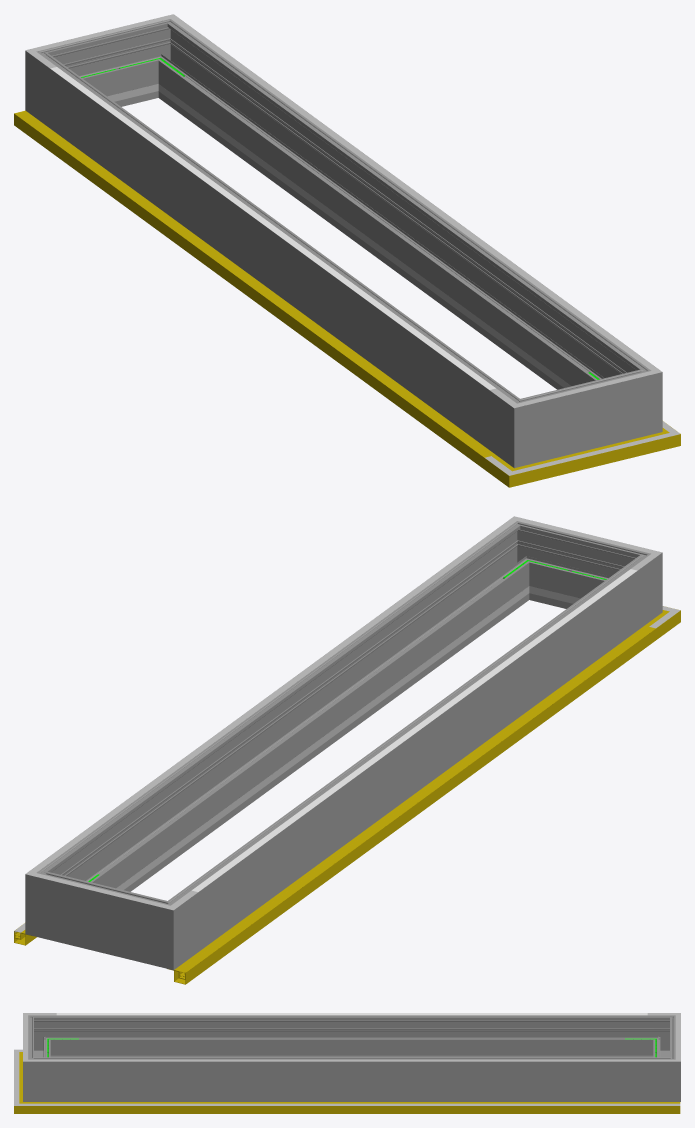
3 renders of one model, top to bottom at view 1: azimuth 30°, elevation 25°; view 2: azimuth 150°, elevation 25°; view 3: azimuth 270°, elevation 25°, orthographic. The views are drawn at different scales.
Parts seen in each view (by area): view 1: 3DGeom-297, 3DGeom-268, 3DGeom-6, 3DGeom-270, 3DGeom-298, 3DGeom-276, 3DGeom-25, 3DGeom-303, 3DGeom-313, 3DGeom-237, 3DGeom-290, 3DGeom-284 (+3 smaller); view 2: 3DGeom-297, 3DGeom-268, 3DGeom-6, 3DGeom-278, 3DGeom-276, 3DGeom-298, 3DGeom-25, 3DGeom-303, 3DGeom-313, 3DGeom-237, 3DGeom-284, 3DGeom-290 (+1 smaller); view 3: 3DGeom-297, 3DGeom-268, 3DGeom-16, 3DGeom-18, 3DGeom-303, 3DGeom-313, 3DGeom-232, 3DGeom-284, 3DGeom-290, 3DGeom-270, 3DGeom-278, 3DGeom-13 (+2 smaller).
Boxes of the visible parts, bbox=[...] form: 3DGeom-297: bbox=[162, 34, 637, 389]; 3DGeom-268: bbox=[50, 65, 503, 449]; 3DGeom-6: bbox=[14, 110, 495, 468]; 3DGeom-270: bbox=[489, 387, 556, 468]; 3DGeom-298: bbox=[549, 376, 619, 457]; 3DGeom-276: bbox=[72, 27, 151, 106]; 3DGeom-25: bbox=[14, 112, 490, 457]; 3DGeom-303: bbox=[192, 32, 636, 355]; 3DGeom-313: bbox=[50, 67, 495, 389]; 3DGeom-237: bbox=[182, 101, 571, 387]; 3DGeom-290: bbox=[612, 355, 662, 442]; 3DGeom-284: bbox=[135, 17, 195, 100]; 3DGeom-297: bbox=[50, 536, 525, 891]; 3DGeom-268: bbox=[184, 567, 637, 951]; 3DGeom-6: bbox=[168, 625, 656, 984]; 3DGeom-278: bbox=[130, 889, 198, 970]; 3DGeom-276: bbox=[68, 878, 138, 959]; 3DGeom-298: bbox=[536, 529, 615, 608]; 3DGeom-25: bbox=[179, 627, 655, 973]; 3DGeom-303: bbox=[51, 534, 495, 857]; 3DGeom-313: bbox=[192, 569, 636, 891]; 3DGeom-237: bbox=[116, 604, 505, 889]; 3DGeom-284: bbox=[25, 857, 75, 944]; 3DGeom-290: bbox=[492, 519, 552, 602]; 3DGeom-297: bbox=[56, 1057, 647, 1101]; 3DGeom-268: bbox=[56, 1015, 647, 1055]; 3DGeom-16: bbox=[47, 1102, 680, 1113]; 3DGeom-18: bbox=[47, 1103, 680, 1105]; 3DGeom-303: bbox=[56, 1059, 647, 1061]; 3DGeom-313: bbox=[56, 1013, 647, 1015]; 3DGeom-232: bbox=[83, 1055, 620, 1057]; 3DGeom-284: bbox=[647, 1047, 680, 1101]; 3DGeom-290: bbox=[23, 1047, 56, 1101]; 3DGeom-270: bbox=[28, 1015, 56, 1057]; 3DGeom-278: bbox=[647, 1015, 675, 1057]; 3DGeom-13: bbox=[14, 1092, 47, 1113].
Size of the model in its own units: 0.6096 by 0.2434 by 3.05.
